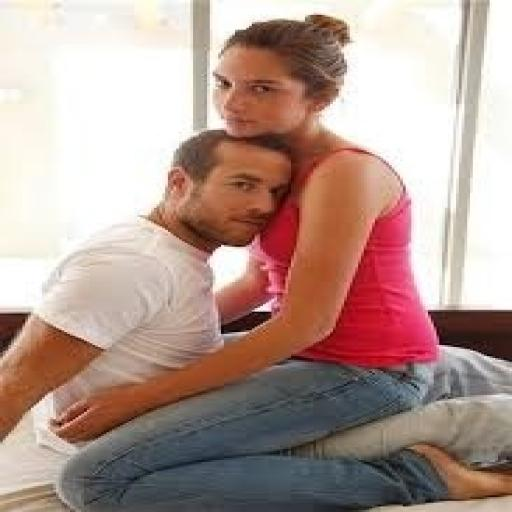hugging: (45, 11, 509, 510)
